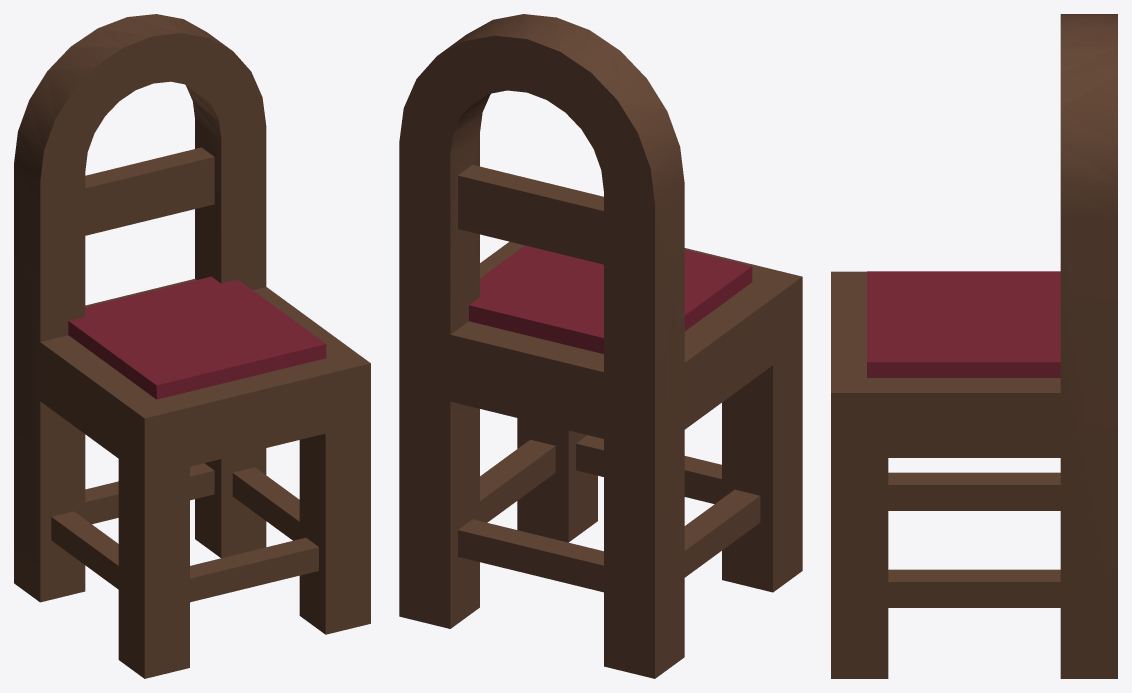
File: chairRounded.glb
The picture shows the model from 3 angles, left to right: view 1: azimuth 30°, elevation 25°; view 2: azimuth 150°, elevation 25°; view 3: azimuth 270°, elevation 25°; orthographic projection. The views are drawn at different scales.
Parts seen in each view (by area): view 1: chairRounded(Clone); view 2: chairRounded(Clone); view 3: chairRounded(Clone).
Part boxes in pixels (left/top/right/bottom): chairRounded(Clone): left=14, top=14, right=370, bottom=678; chairRounded(Clone): left=399, top=14, right=802, bottom=678; chairRounded(Clone): left=831, top=14, right=1117, bottom=678.
Size of the model in its own units: 0.2 by 0.455 by 0.2.
